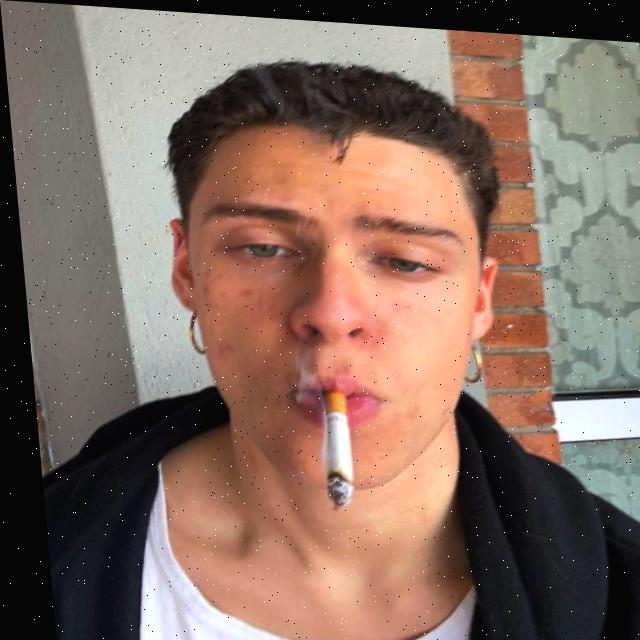cigarette: (307, 385, 351, 510)
